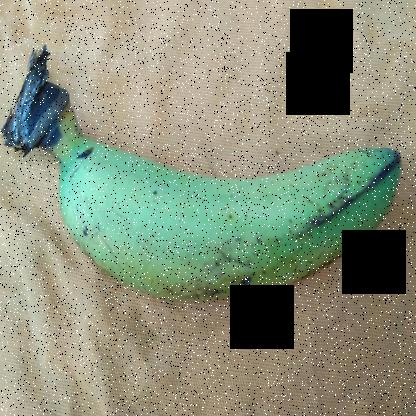ripe: (50, 107, 412, 320)
